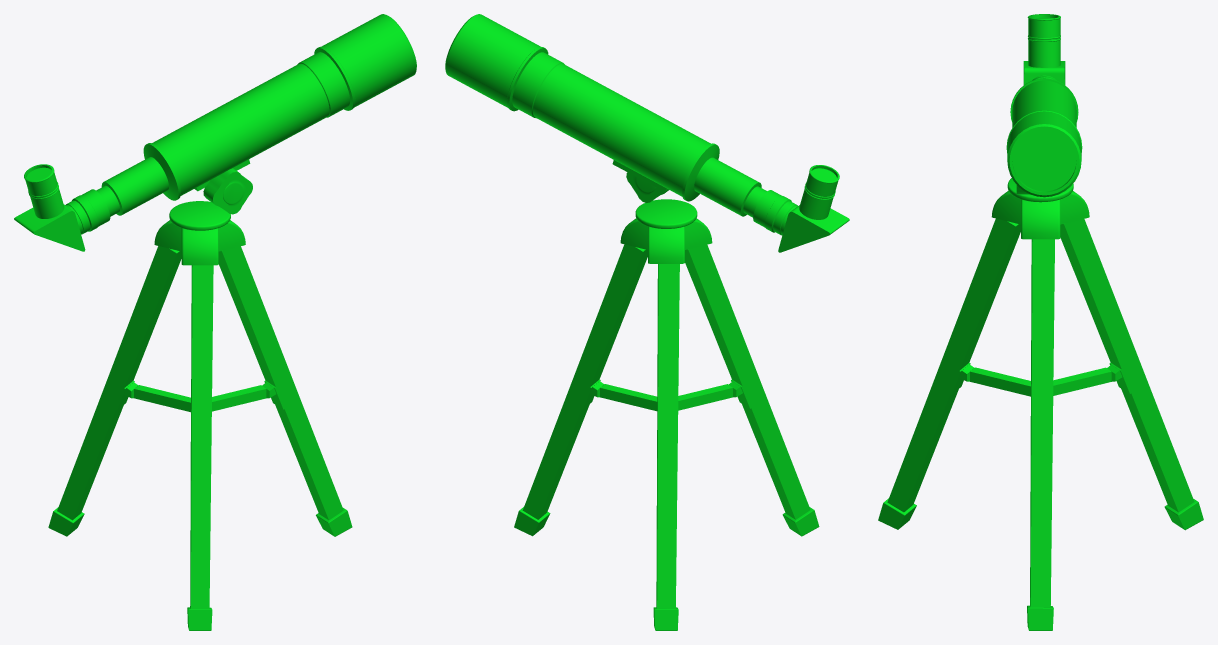
The model's file is telescope.fbx.
The picture shows the model from 3 angles, left to right: view 1: azimuth 30°, elevation 25°; view 2: azimuth 150°, elevation 25°; view 3: azimuth 270°, elevation 25°; orthographic projection. The views are drawn at different scales.
Parts seen in each view (by area): view 1: Cylinder, Cylinder.004, Cylinder.003, Cylinder.002; view 2: Cylinder, Cylinder.004, Cylinder.002, Cylinder.003; view 3: Cylinder, Cylinder.004, Cylinder.002.
Boxes of the visible parts, bbox=[...] form: Cylinder: bbox=[48, 220, 352, 630]; Cylinder.004: bbox=[14, 14, 416, 251]; Cylinder.003: bbox=[203, 168, 252, 214]; Cylinder.002: bbox=[169, 201, 230, 230]; Cylinder: bbox=[514, 218, 819, 630]; Cylinder.004: bbox=[445, 14, 849, 252]; Cylinder.002: bbox=[635, 199, 697, 228]; Cylinder.003: bbox=[626, 172, 668, 202]; Cylinder: bbox=[878, 191, 1203, 630]; Cylinder.004: bbox=[1006, 14, 1082, 197]; Cylinder.002: bbox=[1007, 178, 1073, 202].
Bounding box in the file's own units: 345 × 431 × 237.
